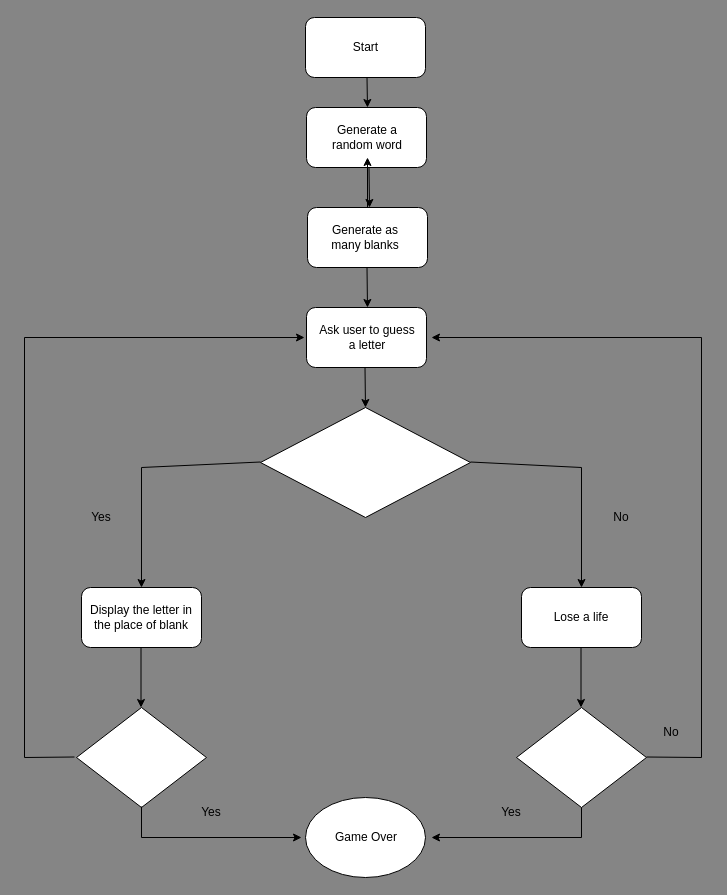
Some shapes in this 727 by 895 pixel diagram are drawn without their labels. The box of each missing label's shape, as (x1, y1, x2, y2) in pixels:
Is the guessed letter in the word: (260, 406, 470, 518)
Is the world completed: (76, 706, 206, 808)
Run out of lives?: (516, 706, 646, 808)
